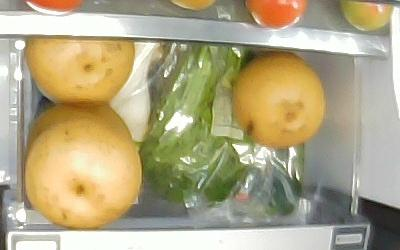pear: (26, 122, 141, 228), (233, 52, 326, 147), (27, 39, 136, 107)
